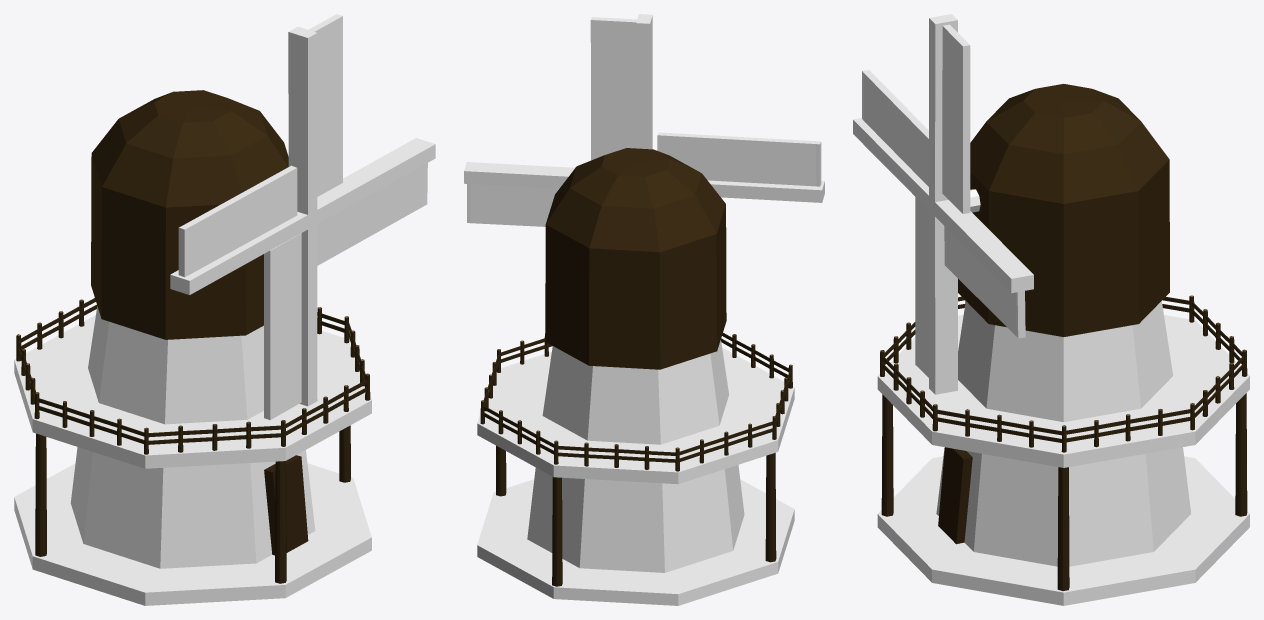
File: FarmMill.fbx
3 views of the same model, side by side, from view 1: azimuth 30°, elevation 25°; view 2: azimuth 150°, elevation 25°; view 3: azimuth 270°, elevation 25° (orthographic). The views are drawn at different scales.
Parts seen in each view (by area): view 1: FarmMill; view 2: FarmMill; view 3: FarmMill.
Part boxes in pixels (bbox=[...]): FarmMill: bbox=[14, 14, 435, 605]; FarmMill: bbox=[464, 14, 824, 605]; FarmMill: bbox=[853, 14, 1249, 605].
Bounding box in the file's own units: 8.09 × 10.86 × 7.33.
